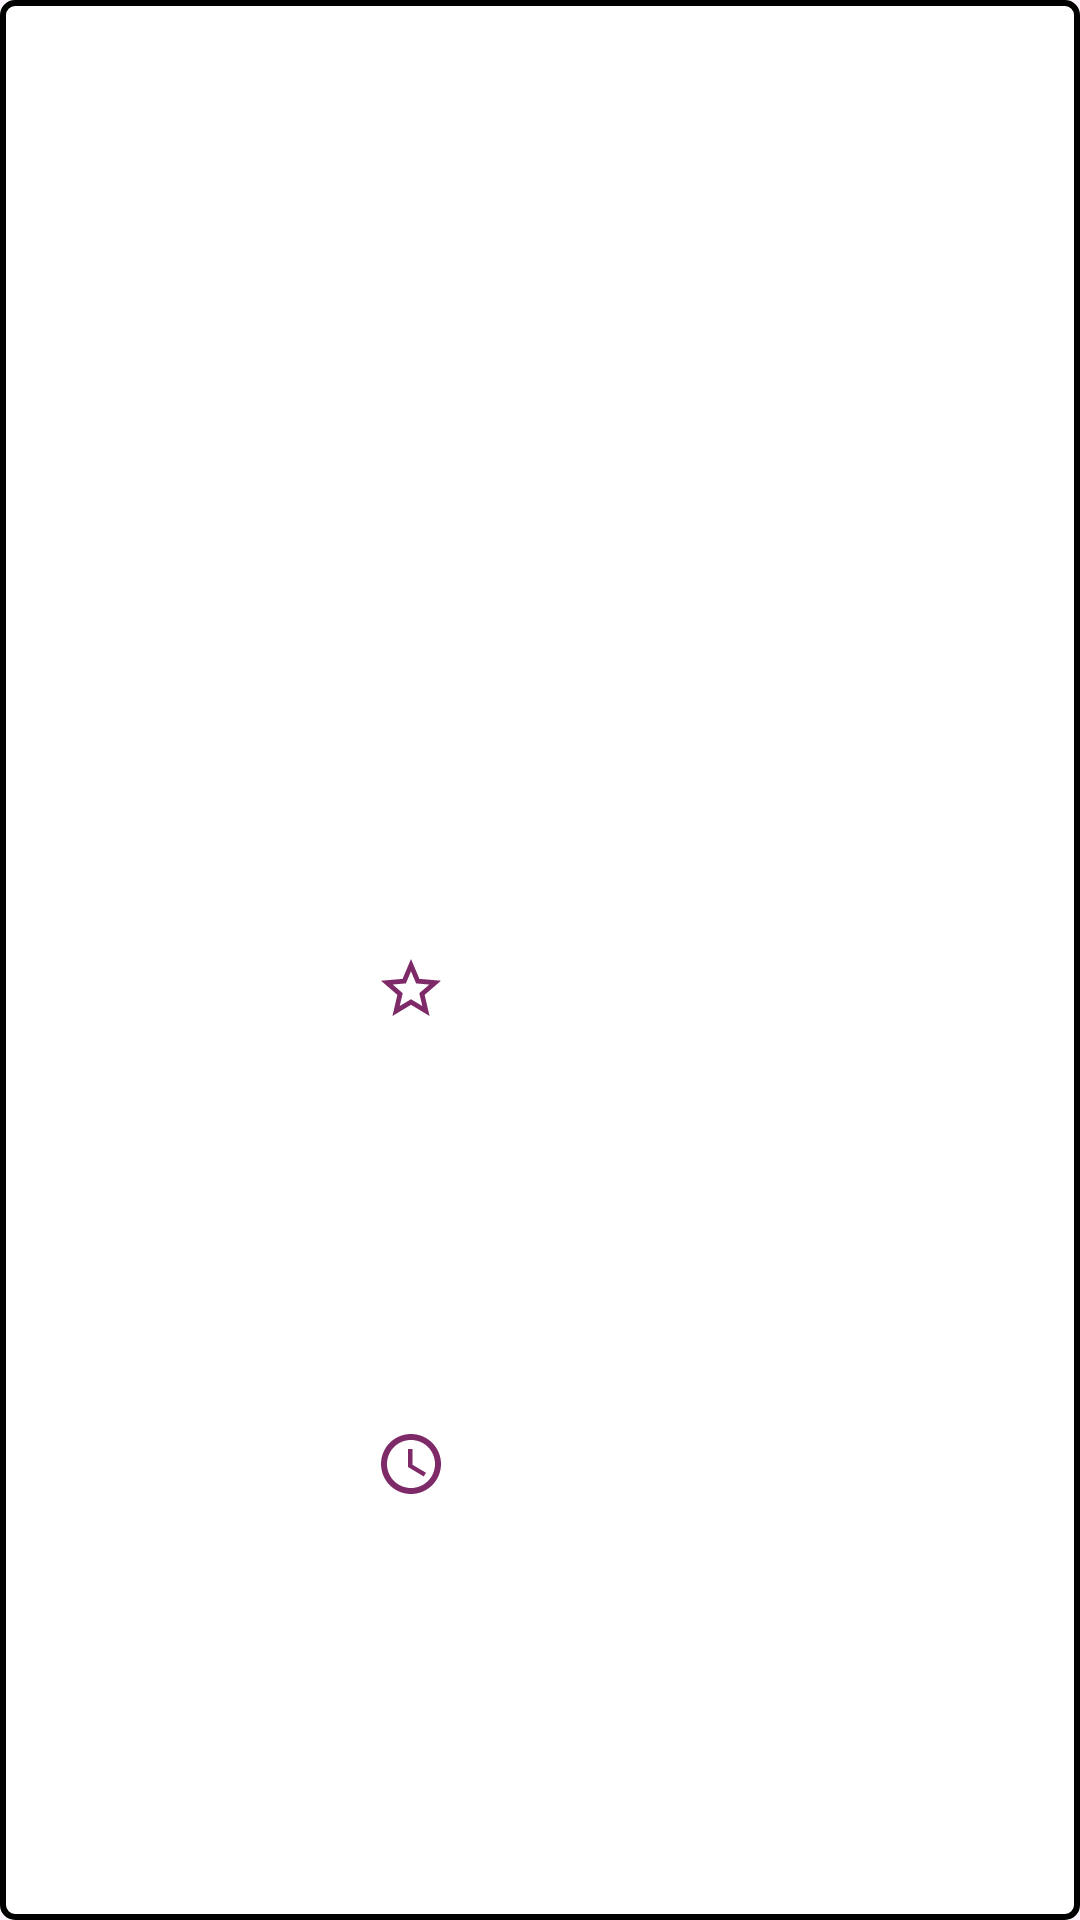

Screen size 1080*1920. Icon name, then its center in pixels as (x,y):
star: (411,987)
time: (411,1464)
